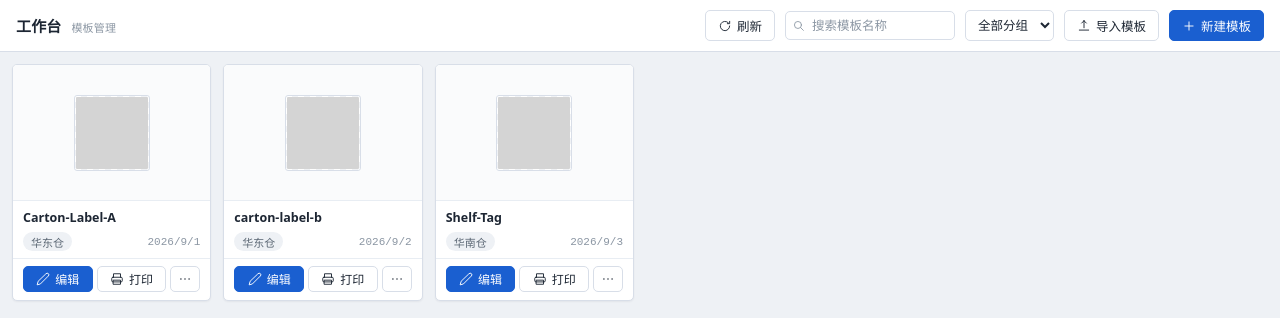
Scenario: 工作台模板名搜索（迭代 45） › 搜索与分组过滤叠加生效：交集为准，双清空恢复完整列表
Expected: the text "Shelf-Tag" is shown, [446,209,502,226]
Select "华东仓" in the dropdown titled "按分组过滤": (1010, 26) [965,10,1054,41]
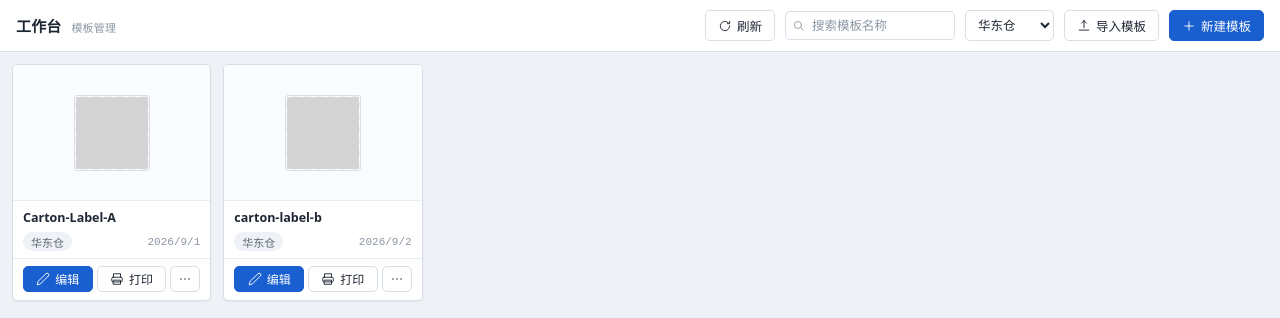
Result: the text "Shelf-Tag" is gone
// 叠加搜索 shelf：华东仓内无匹配 → 空态提示
In the field with placeholder "搜索模板名称": (870, 26) [785,11,955,40], type "shelf"
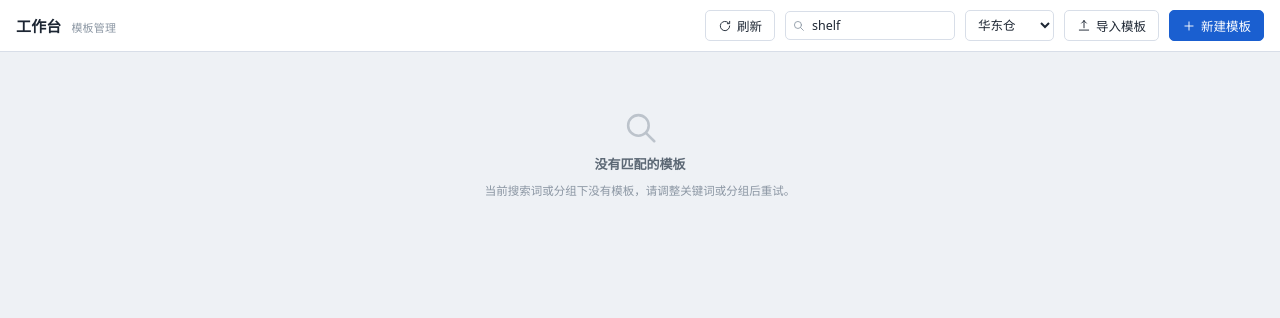
Result: the text "没有匹配的模板" is shown at [594,154,686,173]
// 清空搜索 → 回到分组过滤结果
Clear the field with placeholder "搜索模板名称": (870, 26) [785,11,955,40]
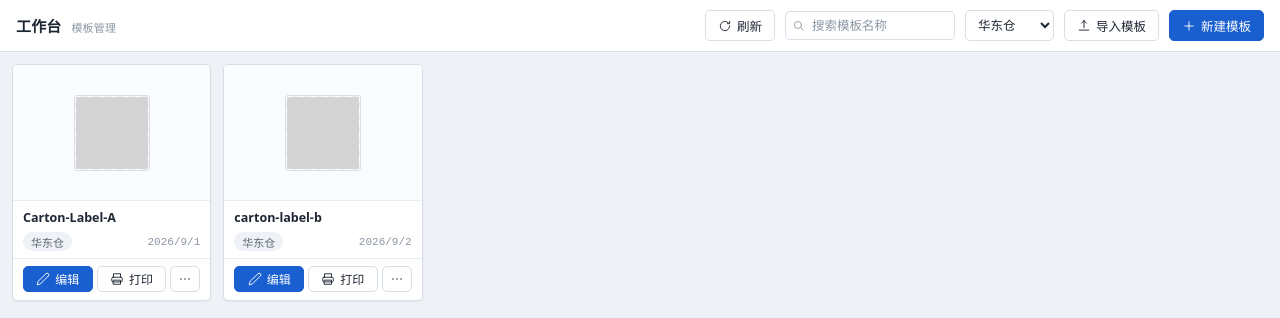
Expected: the text "Shelf-Tag" is not shown
Result: the text "Carton-Label-A" is shown at [23,209,116,226]
// 再清空分组 → 完整列表
Select "全部分组" in the dropdown titled "按分组过滤": (1010, 26) [965,10,1054,41]
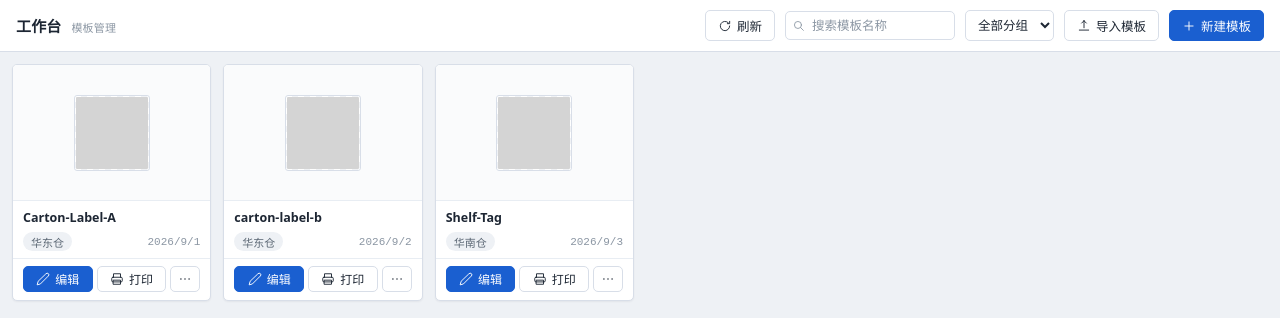
Result: the text "Shelf-Tag" is shown at [446,209,502,226]
